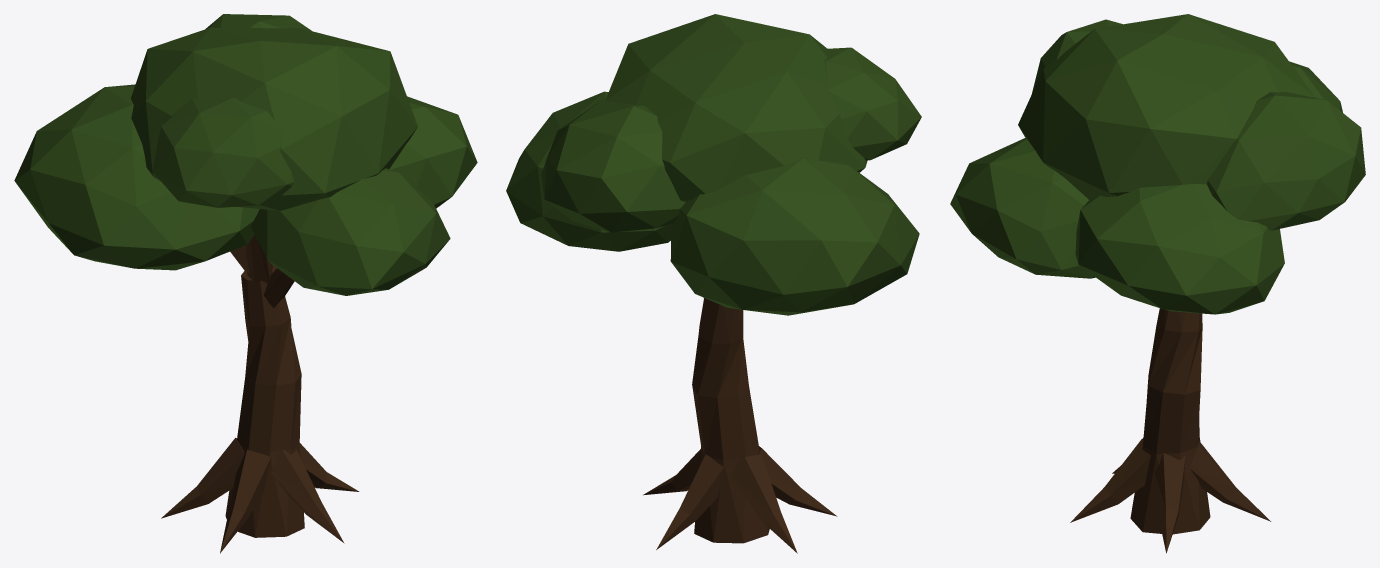
File: roble_a.fbx
3 renders of one model, left to right at view 1: azimuth 30°, elevation 25°; view 2: azimuth 150°, elevation 25°; view 3: azimuth 270°, elevation 25°, orthographic.
Parts seen in each view (by area): view 1: roble_a; view 2: roble_a; view 3: roble_a.
Boxes of the visible parts, x1=… form: roble_a: x1=14, y1=14, x2=477, y2=553; roble_a: x1=506, y1=14, x2=921, y2=553; roble_a: x1=950, y1=14, x2=1365, y2=553.
Bounding box in the file's own units: 7.36 × 8.6 × 6.72.
